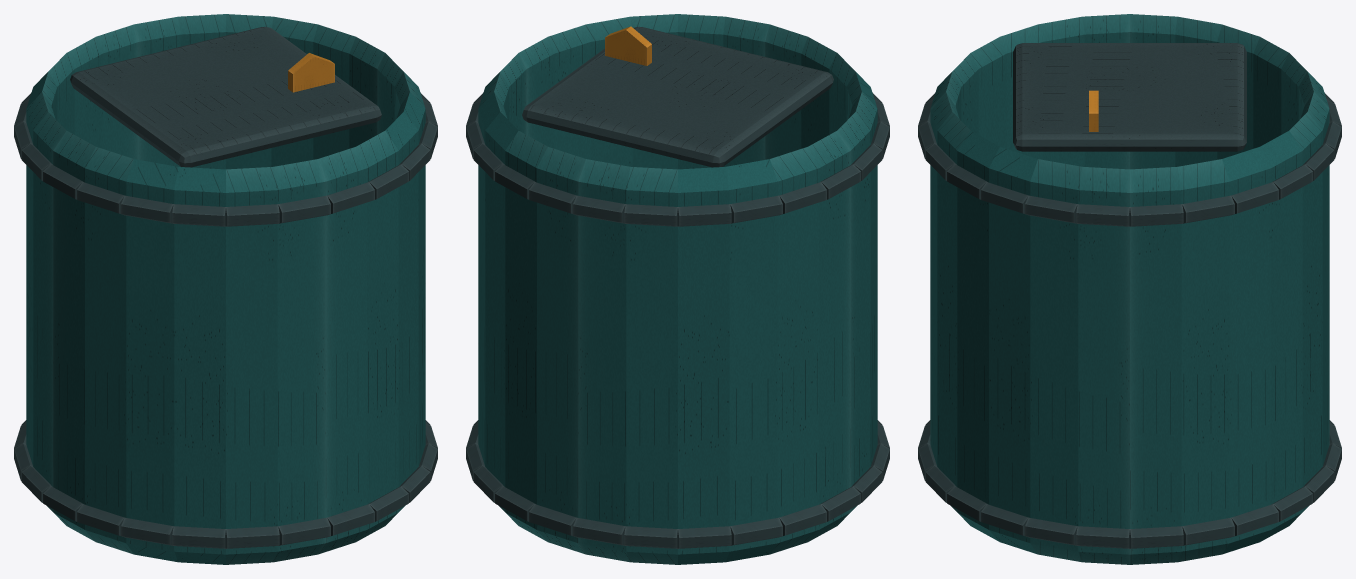
File: steel_drum.fbx
3 renders of one model, left to right at view 1: azimuth 30°, elevation 25°; view 2: azimuth 150°, elevation 25°; view 3: azimuth 270°, elevation 25°, orthographic.
Visible parts, largest first — view 1: steel_drum__curved_wall.002, steel_drum__curved_wall.003, steel_drum__top_seal, steel_drum__curved_wall.001, steel_drum__curved_wall, steel_drum__filler_cap, steel_drum__rolled_hoop.027, steel_drum__rolled_hoop.028, steel_drum__rolled_hoop.033, steel_drum__rolled_hoop.034, steel_drum__rolled_hoop.032, steel_drum__rolled_hoop.035 (+14 smaller); view 2: steel_drum__curved_wall.001, steel_drum__curved_wall, steel_drum__top_seal, steel_drum__curved_wall.002, steel_drum__curved_wall.003, steel_drum__filler_cap, steel_drum__rolled_hoop.013, steel_drum__rolled_hoop.014, steel_drum__rolled_hoop.019, steel_drum__rolled_hoop.020, steel_drum__rolled_hoop.018, steel_drum__rolled_hoop.021 (+14 smaller); view 3: steel_drum__curved_wall, steel_drum__curved_wall.003, steel_drum__top_seal, steel_drum__curved_wall.001, steel_drum__curved_wall.002, steel_drum__rolled_hoop, steel_drum__rolled_hoop.041, steel_drum__rolled_hoop.006, steel_drum__rolled_hoop.047, steel_drum__rolled_hoop.007, steel_drum__rolled_hoop.046, steel_drum__rolled_hoop.001 (+13 smaller).
Part boxes in pixels (x1=…): steel_drum__curved_wall.002: x1=53, y1=131, x2=325, y2=564; steel_drum__curved_wall.003: x1=318, y1=53, x2=425, y2=554; steel_drum__top_seal: x1=70, y1=26, x2=381, y2=167; steel_drum__curved_wall.001: x1=26, y1=24, x2=138, y2=511; steel_drum__curved_wall: x1=134, y1=14, x2=384, y2=169; steel_drum__filler_cap: x1=288, y1=53, x2=334, y2=92; steel_drum__rolled_hoop.027: x1=172, y1=526, x2=225, y2=548; steel_drum__rolled_hoop.028: x1=226, y1=526, x2=279, y2=548; steel_drum__rolled_hoop.033: x1=172, y1=204, x2=225, y2=226; steel_drum__rolled_hoop.034: x1=226, y1=204, x2=279, y2=226; steel_drum__rolled_hoop.032: x1=121, y1=195, x2=173, y2=223; steel_drum__rolled_hoop.035: x1=278, y1=195, x2=330, y2=223; steel_drum__curved_wall.001: x1=578, y1=131, x2=850, y2=564; steel_drum__curved_wall: x1=478, y1=53, x2=585, y2=554; steel_drum__top_seal: x1=522, y1=26, x2=833, y2=167; steel_drum__curved_wall.002: x1=765, y1=24, x2=877, y2=511; steel_drum__curved_wall.003: x1=519, y1=14, x2=769, y2=169; steel_drum__filler_cap: x1=605, y1=26, x2=651, y2=65; steel_drum__rolled_hoop.013: x1=624, y1=526, x2=677, y2=548; steel_drum__rolled_hoop.014: x1=678, y1=526, x2=731, y2=548; steel_drum__rolled_hoop.019: x1=624, y1=204, x2=677, y2=226; steel_drum__rolled_hoop.020: x1=678, y1=204, x2=731, y2=226; steel_drum__rolled_hoop.018: x1=573, y1=195, x2=625, y2=223; steel_drum__rolled_hoop.021: x1=730, y1=195, x2=782, y2=223; steel_drum__curved_wall: x1=1130, y1=92, x2=1329, y2=564; steel_drum__curved_wall.003: x1=930, y1=92, x2=1129, y2=564; steel_drum__top_seal: x1=1013, y1=43, x2=1246, y2=151; steel_drum__curved_wall.001: x1=1130, y1=14, x2=1328, y2=169; steel_drum__curved_wall.002: x1=931, y1=14, x2=1129, y2=169; steel_drum__rolled_hoop: x1=1130, y1=526, x2=1183, y2=548; steel_drum__rolled_hoop.041: x1=1076, y1=526, x2=1129, y2=548; steel_drum__rolled_hoop.006: x1=1130, y1=204, x2=1183, y2=226; steel_drum__rolled_hoop.047: x1=1076, y1=204, x2=1129, y2=226; steel_drum__rolled_hoop.007: x1=1182, y1=195, x2=1234, y2=223; steel_drum__rolled_hoop.046: x1=1025, y1=195, x2=1077, y2=223; steel_drum__rolled_hoop.001: x1=1182, y1=517, x2=1234, y2=545.
Bounding box in the file's own units: 136 × 152 × 136.
Materials: 3 (3 with a texture image).
